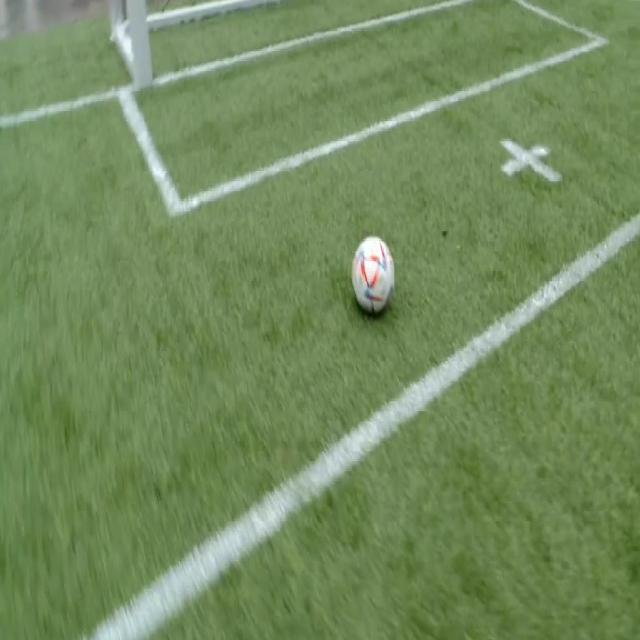ball: (352, 237, 394, 312)
goalpost: (129, 31, 155, 98)
